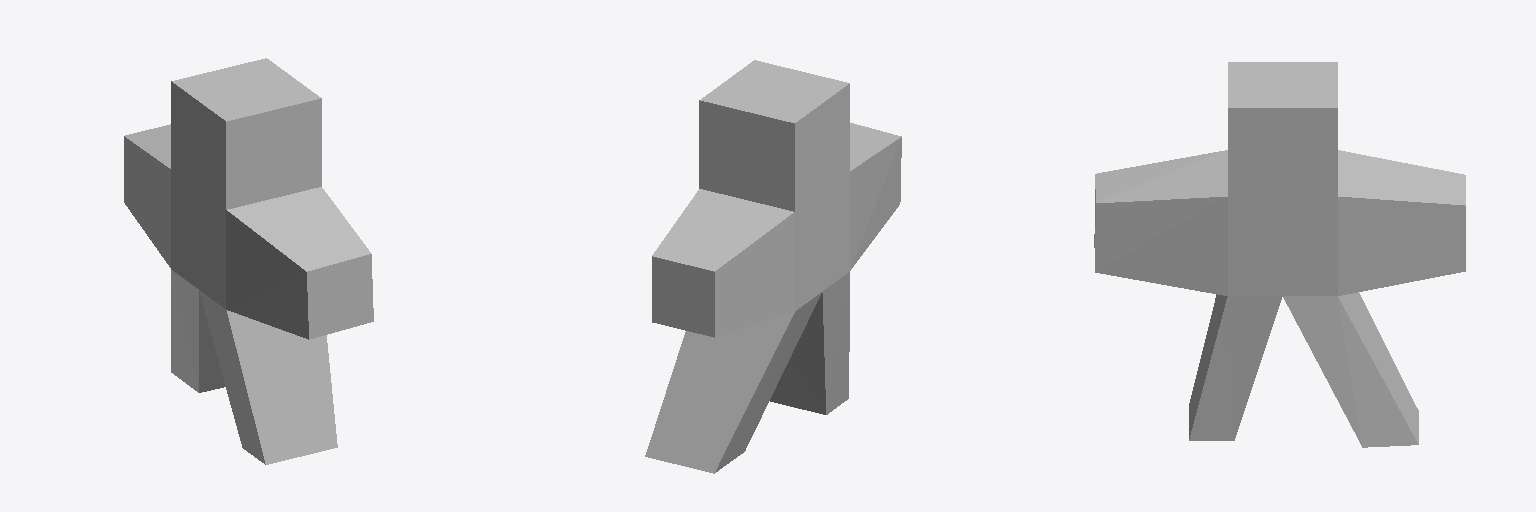
Rendered from myRobot.obj.
The picture shows the model from 3 angles: view 1: azimuth 30°, elevation 25°; view 2: azimuth 150°, elevation 25°; view 3: azimuth 270°, elevation 25°; orthographic projection.
Parts seen in each view (by area): view 1: Cube; view 2: Cube; view 3: Cube.
Boxes of the visible parts, box(x1,y1,x2,y2) form: Cube: box(124, 58, 373, 464); Cube: box(645, 60, 901, 473); Cube: box(1094, 62, 1465, 447).
Bounding box in the file's own units: 2.34 × 6.7 × 6.74.